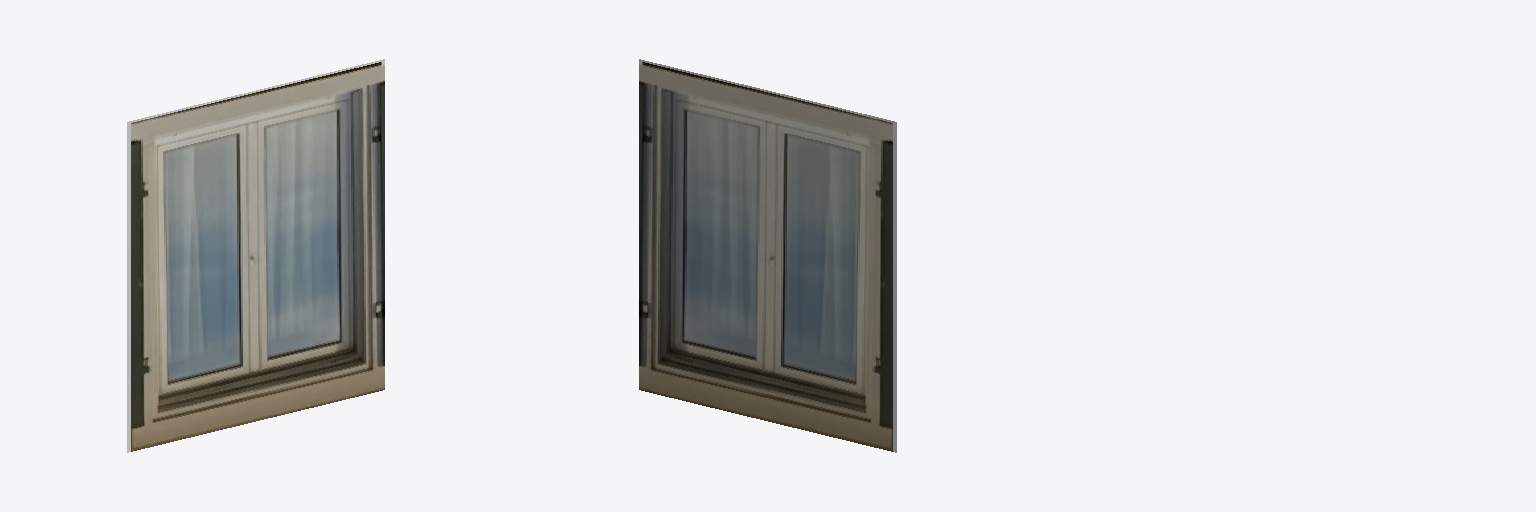
3 renders of one model, left to right at view 1: azimuth 30°, elevation 25°; view 2: azimuth 150°, elevation 25°; view 3: azimuth 270°, elevation 25°, orthographic.
Bounding box in the file's own units: 254 × 312 × 0.
Materials: 1 (1 with a texture image).